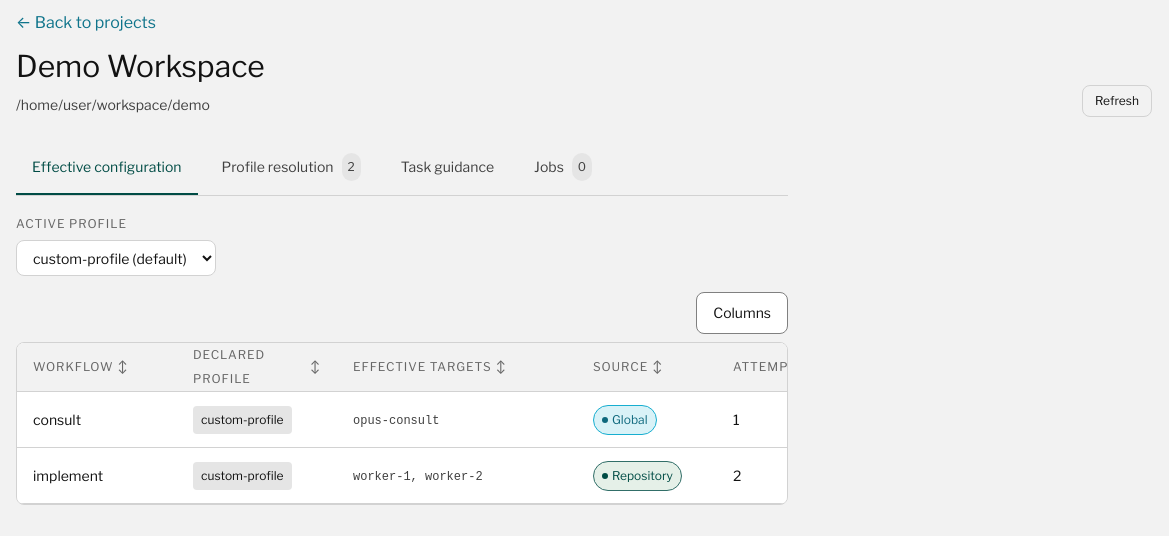
Test case: ProjectDetail screen › suppresses source chip when parent profile is null in profile resolution tab
// Switch to profile resolution tab
Click the tab "Profile resolution 2" at (291, 168), box [206,141,377,195]
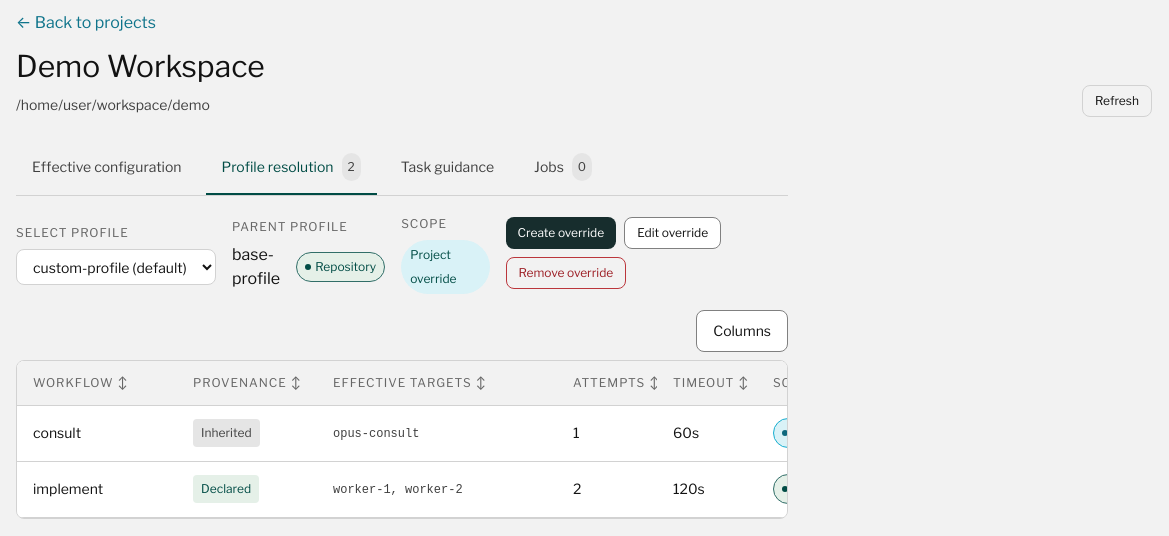
Expected: the text "Repository" is shown, [315,255,376,279]
Expected: the text "base-profile" is shown, [232,243,288,291]
// Switch active profile to root-profile (parent is null)
Select "root-profile" in the dropdown labelled "Select profile" at (116, 267), box [16,249,216,285]
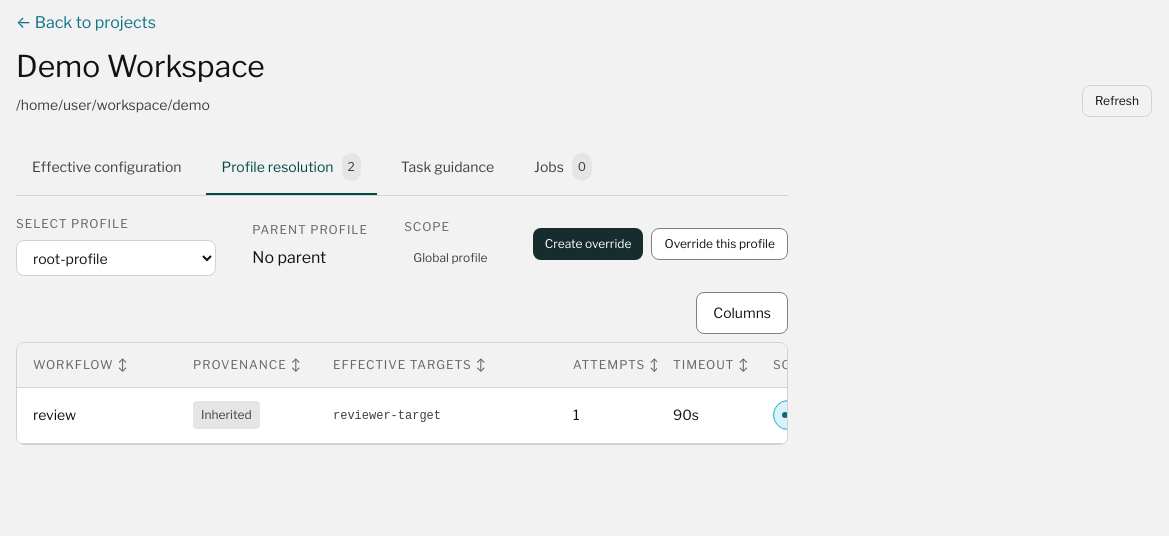
Expected: the text "No parent" is shown, [252,246,326,270]
